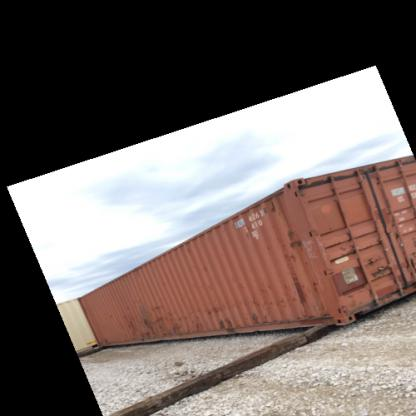Damage: (314, 262, 385, 308), (271, 266, 316, 308), (204, 306, 246, 335), (147, 305, 184, 336), (240, 292, 270, 328), (285, 230, 309, 266), (184, 310, 210, 336), (127, 312, 149, 342)
